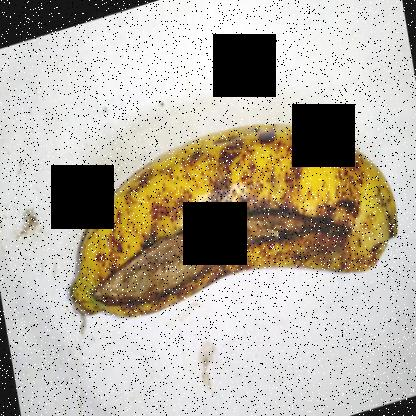rotten: (99, 177, 355, 314)
